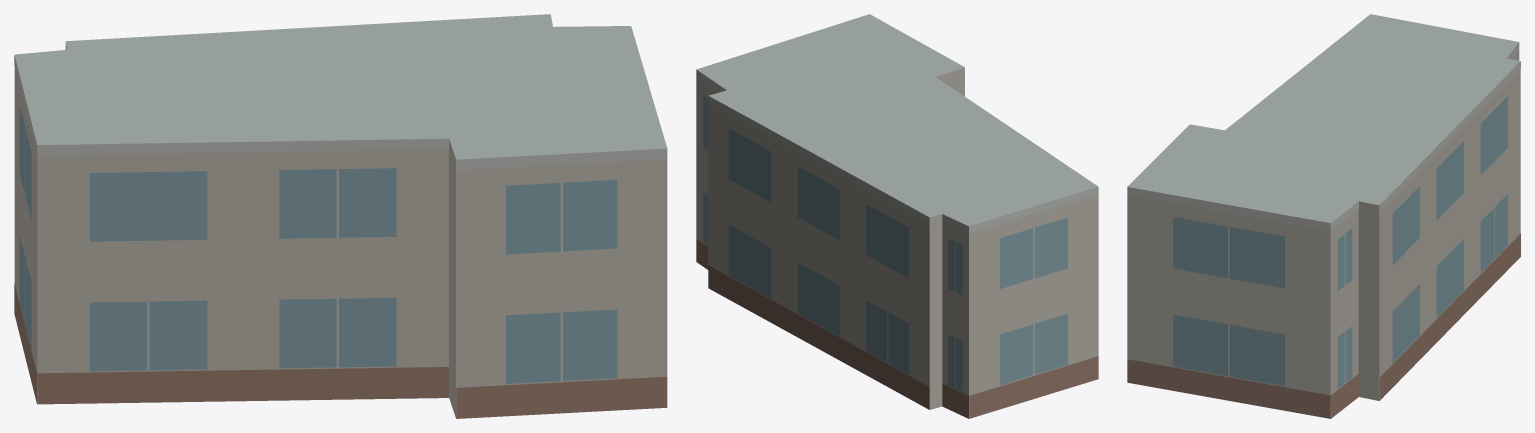
File: survey-upis-32600530.glb
3 views of the same model, side by side, from view 1: azimuth 30°, elevation 25°; view 2: azimuth 150°, elevation 25°; view 3: azimuth 270°, elevation 25° (orthographic). The views are drawn at different scales.
Parts seen in each view (by area): view 1: survey-upis-32600530.tmp; view 2: survey-upis-32600530.tmp; view 3: survey-upis-32600530.tmp.
Boxes of the visible parts, x1,y1,x2,y2 form: survey-upis-32600530.tmp: (14, 14, 667, 418); survey-upis-32600530.tmp: (696, 14, 1098, 418); survey-upis-32600530.tmp: (1127, 14, 1520, 418).
Size of the model in its own units: 13.99 by 6.1 by 11.12.
